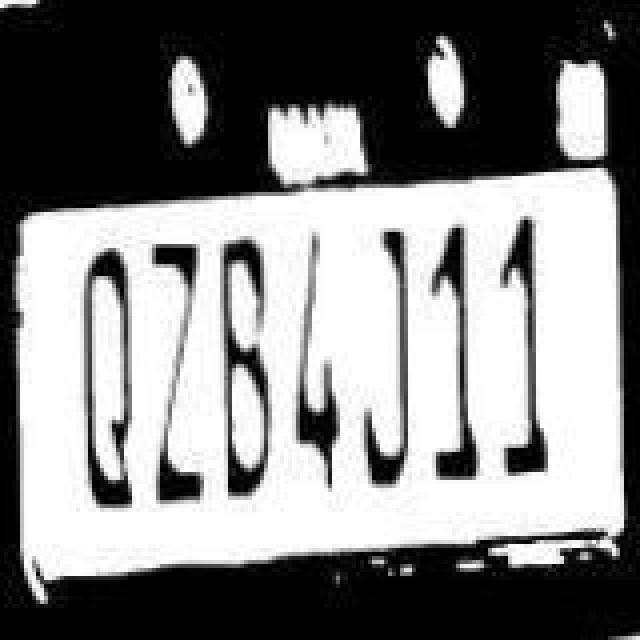1: (496, 214, 556, 482), (428, 222, 488, 486)
4: (284, 230, 344, 494)
B: (210, 234, 274, 506)
J: (354, 224, 418, 484)
Q: (80, 244, 148, 516)
Z: (144, 236, 212, 512)
